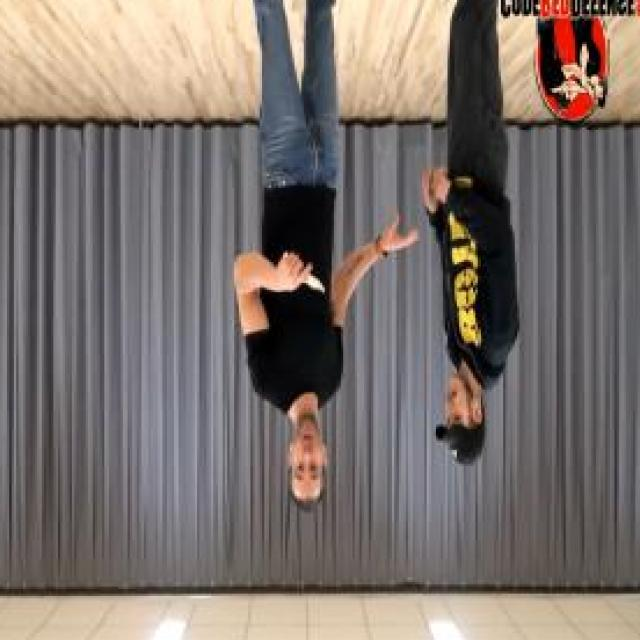knife: (281, 248, 329, 302)
